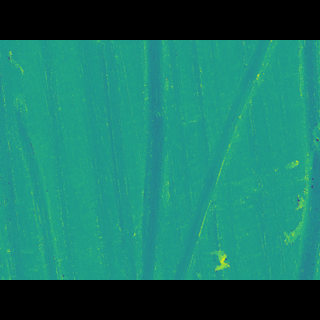Loch: (170, 69, 279, 249), (9, 110, 63, 250), (137, 69, 167, 249), (301, 69, 319, 251)
